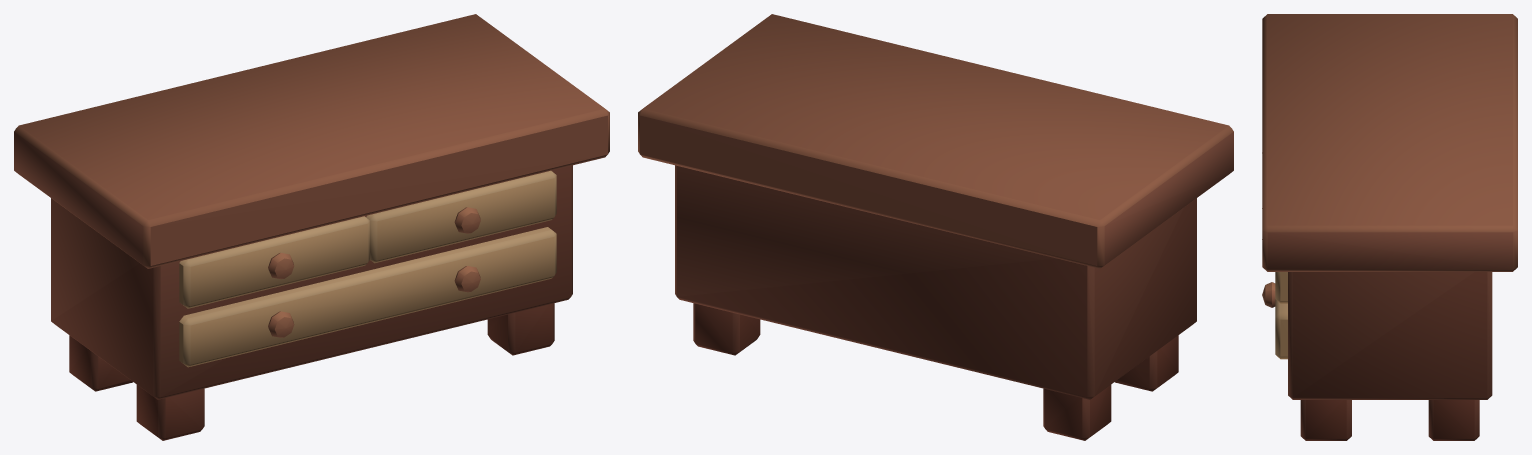
File: kk_furniture_cabinet_medium.glb
3 renders of one model, left to right at view 1: azimuth 30°, elevation 25°; view 2: azimuth 150°, elevation 25°; view 3: azimuth 270°, elevation 25°, orthographic. The views are drawn at different scales.
Parts seen in each view (by area): view 1: kk_furniture_cabinet_medium; view 2: kk_furniture_cabinet_medium; view 3: kk_furniture_cabinet_medium.
Boxes of the visible parts, left/top/right/bottom form: kk_furniture_cabinet_medium: left=14, top=14, right=609, bottom=440; kk_furniture_cabinet_medium: left=638, top=14, right=1233, bottom=440; kk_furniture_cabinet_medium: left=1262, top=14, right=1517, bottom=440.
Size of the model in its own units: 2 by 1 by 1.
